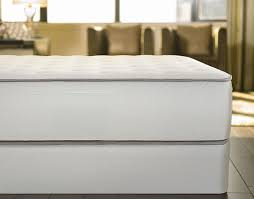bed-matress: (1, 53, 235, 143)
